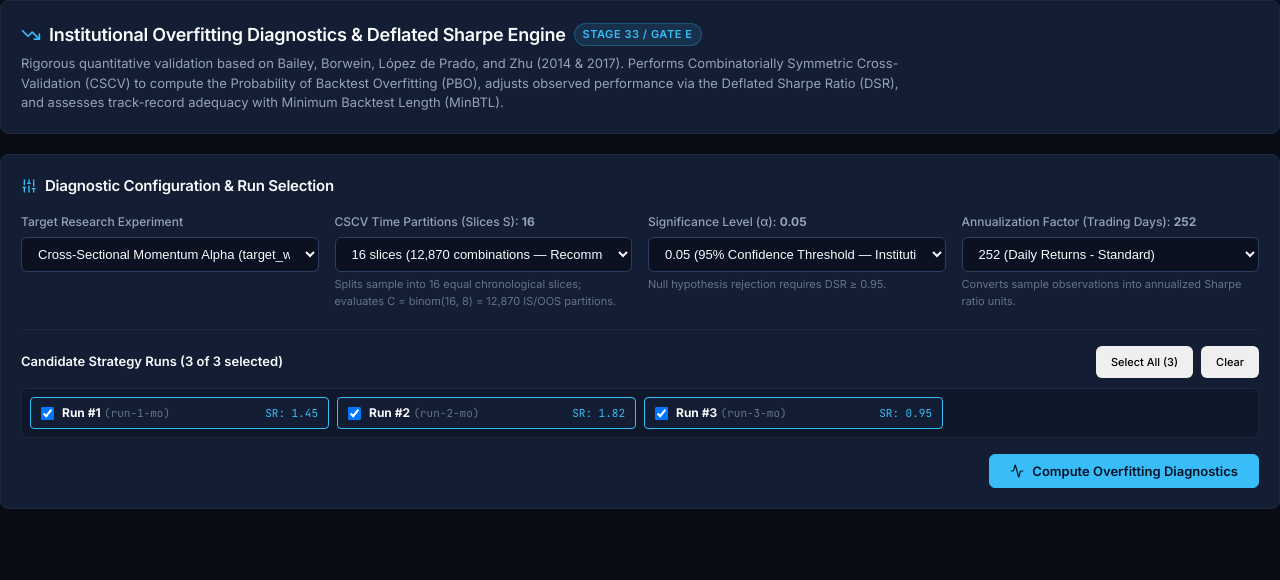
Scenario: OverfittingDiagnosticsStudio & Overfitting API › enforces validation requiring at least 2 candidate strategy runs
Check: the text "Candidate Strategy Runs (3 of 3 selected)" is shown, box [21,352,283,372]
// Click "Clear" button to deselect all runs
Click the button "Clear": {"x": 1230, "y": 362} [1201,346,1259,378]
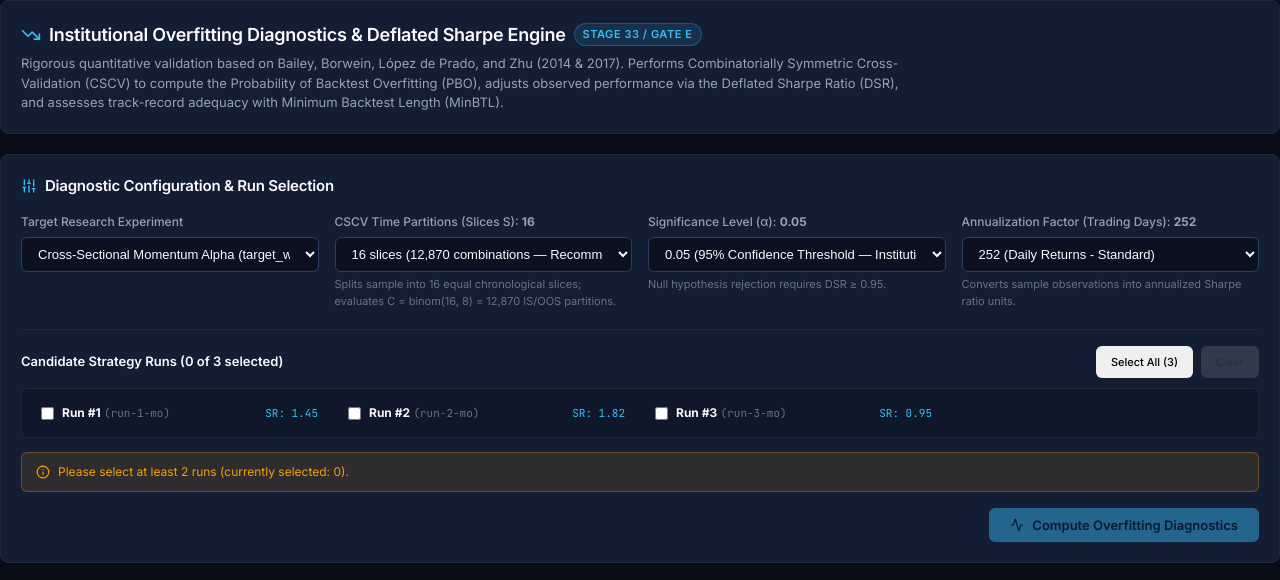
Check: the text "Please select at least 2 runs (currently selected: 0)." is shown, box [58,463,349,481]
Check: the button "Compute Overfitting Diagnostics" is disabled, box [989,508,1259,542]
// Select 1 run
Click the checkbox labelled "Run #1 (run-1-mo) SR: 1.45": {"x": 48, "y": 413} [41,406,54,420]
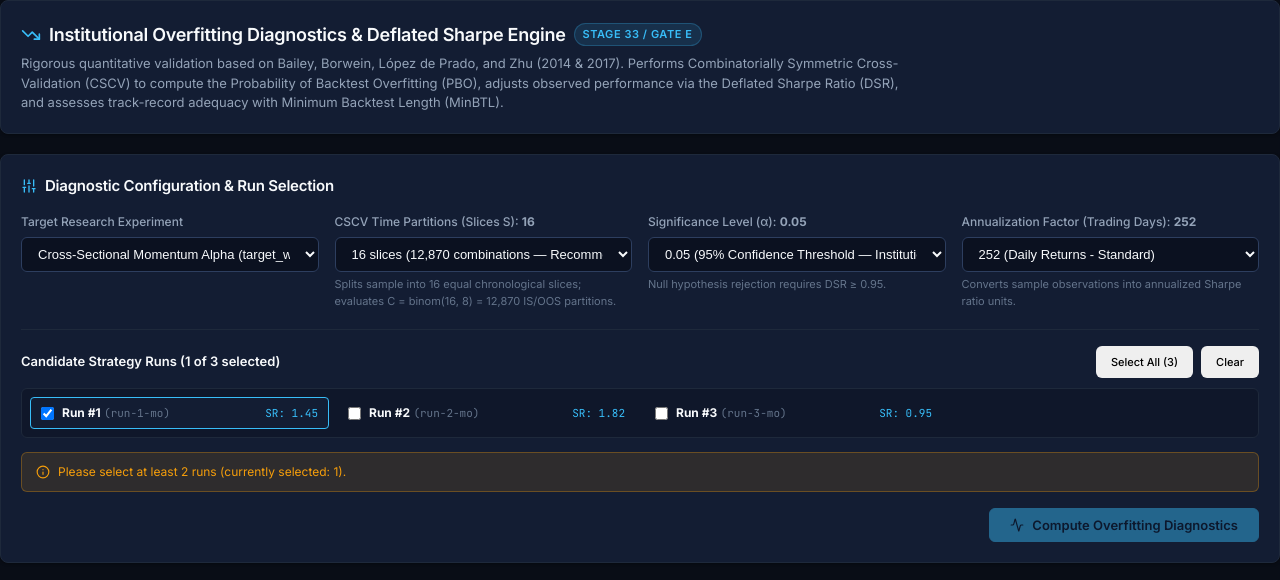
Check: the button "Compute Overfitting Diagnostics" is disabled, box [989,508,1259,542]
Check: the text "Please select at least 2 runs (currently selected: 1)." is shown, box [58,463,346,481]
Click the checkbox labelled "Run #2 (run-2-mo) SR: 1.82": {"x": 354, "y": 413} [348,406,361,420]
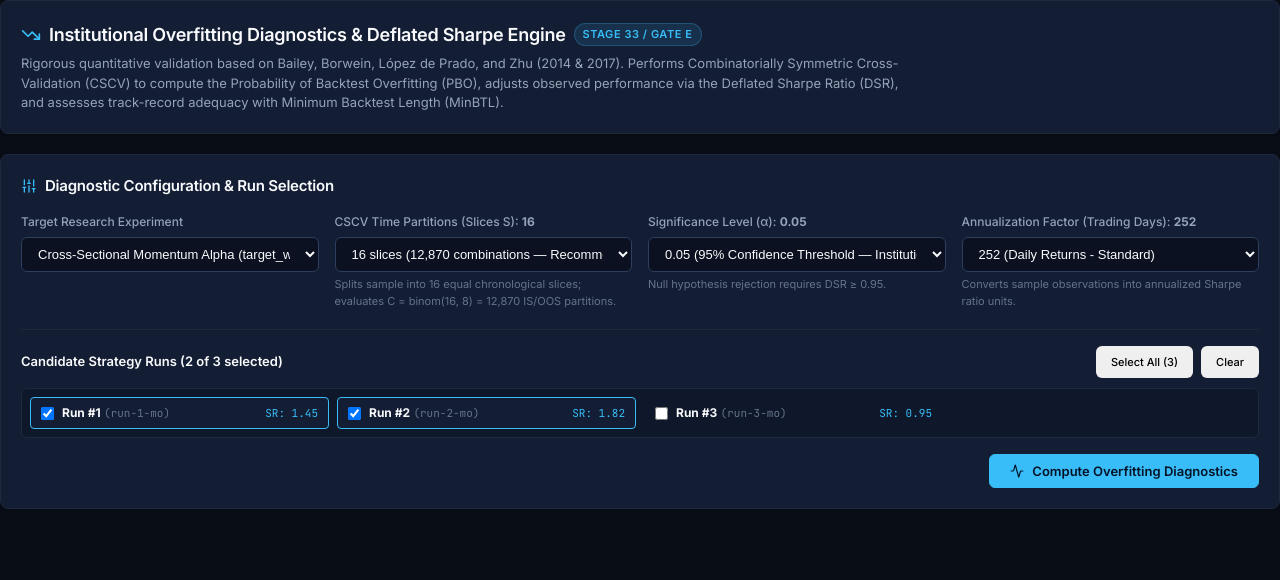
Check: the button "Compute Overfitting Diagnostics" is enabled, box [989,454,1259,488]
